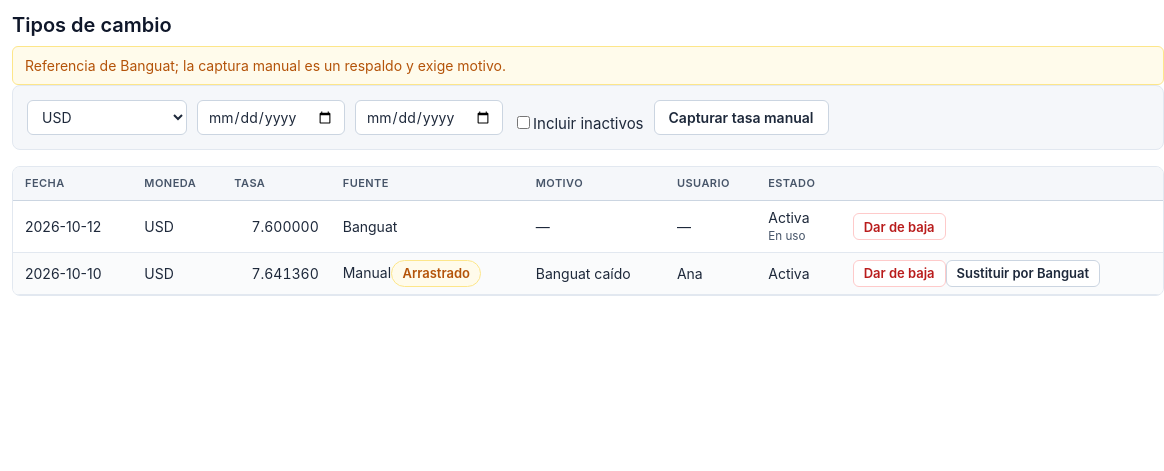
TiposCambio › muestra el error de baja dentro del formulario de motivo
Expected: the text "7.641360" is shown, [222, 253, 331, 294]
Click the button with aria-label "Dar de baja la tasa del 2026-10-10". click: (899,274)
box: [853, 260, 946, 287]
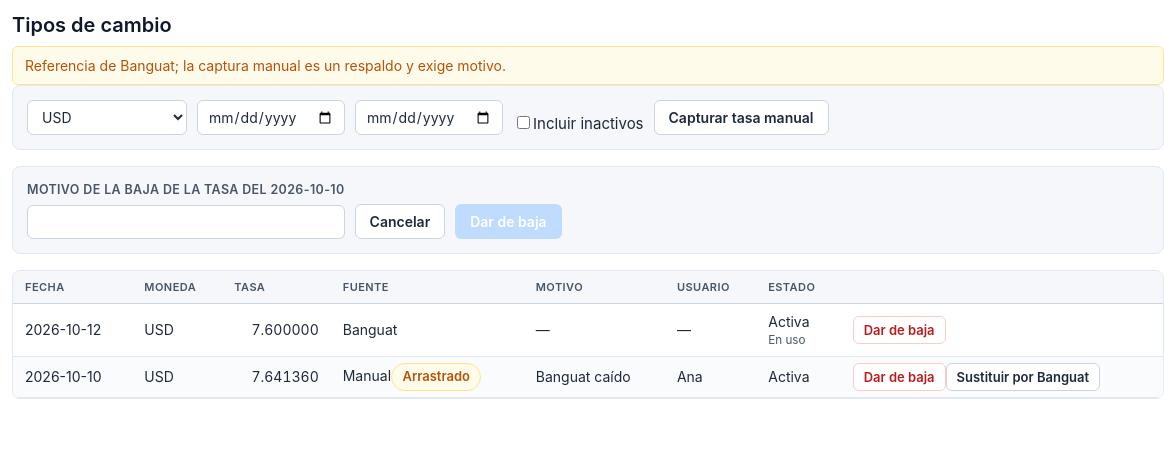
Type "motivo" into the field labelled "Motivo de la baja de la tasa del 2026-10-10". click: (186,222)
box: [27, 205, 345, 239]
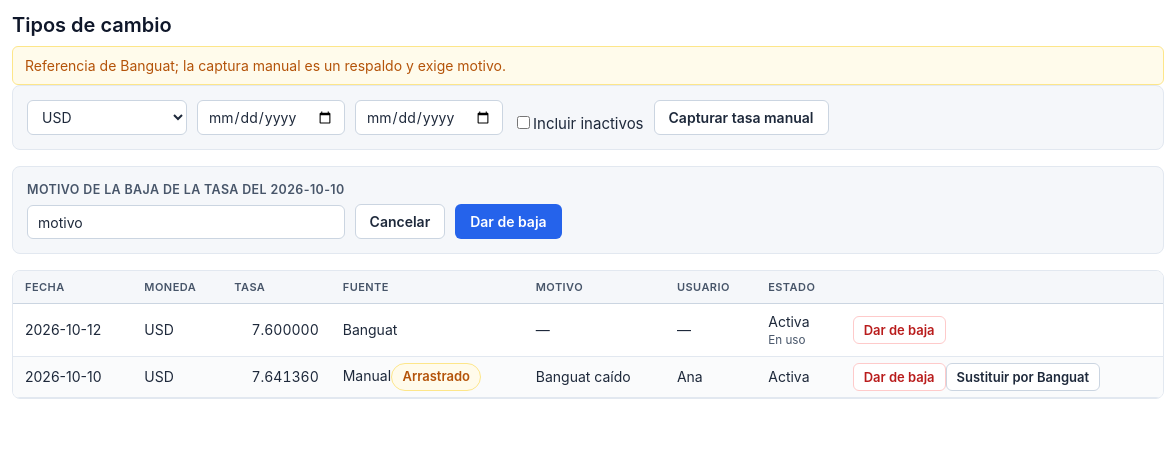
Click the 1st button "Dar de baja". click: (508,221)
box: [455, 204, 562, 239]
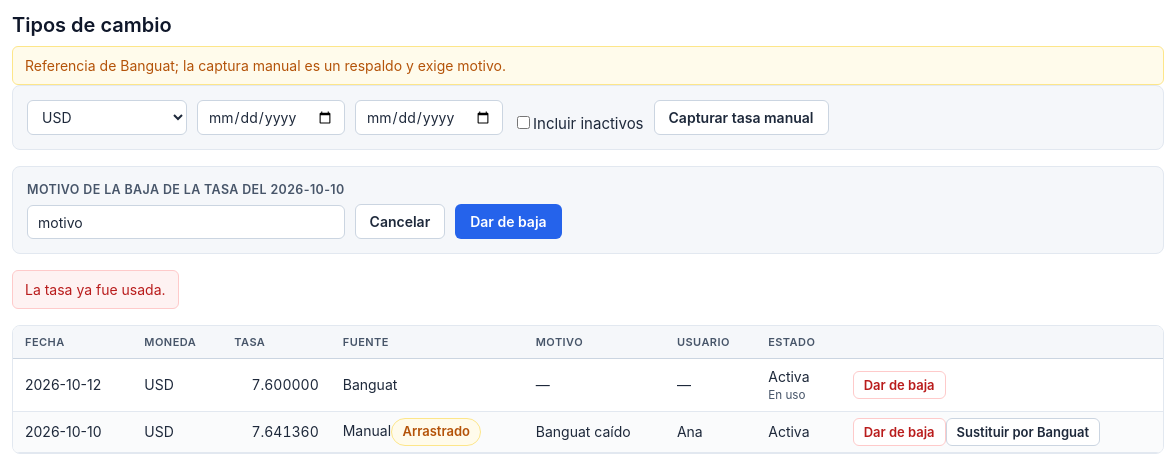
Expected: the text "La tasa ya fue usada." is shown, [12, 270, 179, 309]
